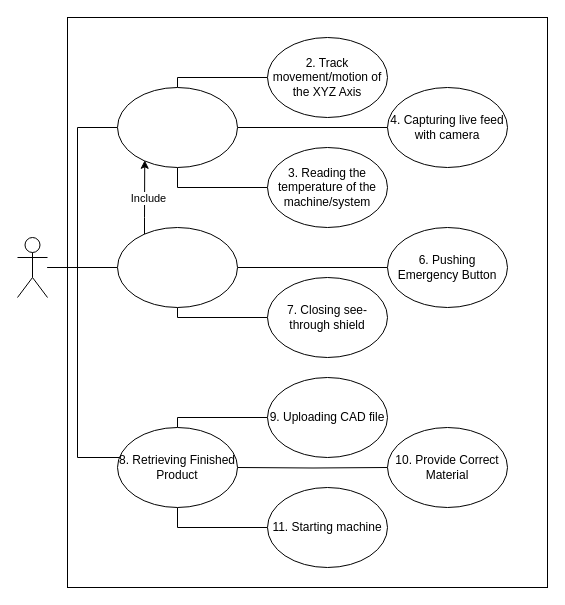
Image size: 565x605. Some labels were removed from this diagram. Here are the shapes that lost their labels. From the top down, the centre of each, then its label:
At (177,127): "1. Monitoring Device/System".
At (32,267): "User".
At (177,267): "5. Activating Emergency Shutdown".
